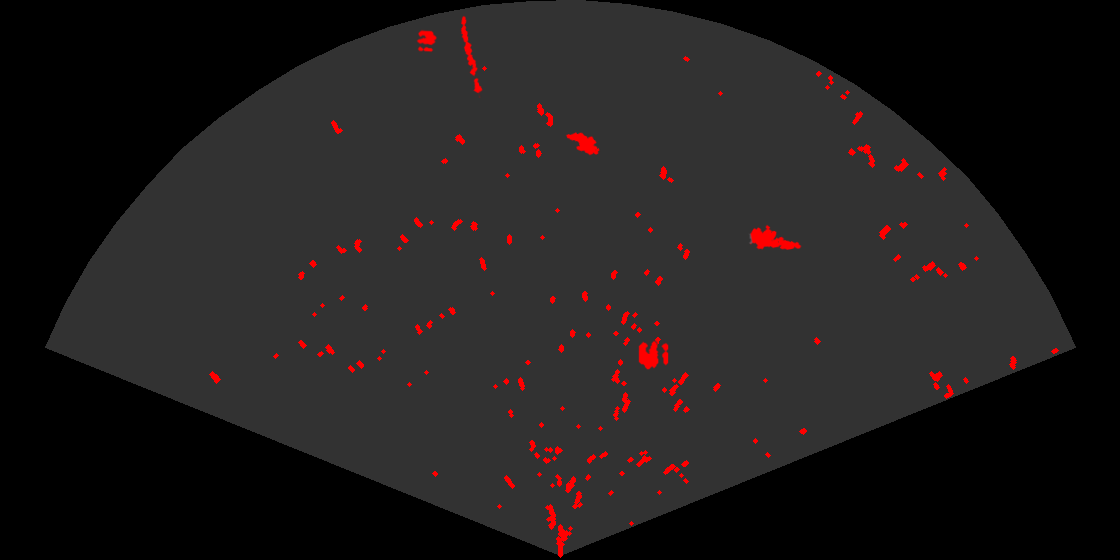AUV: (564, 131, 601, 157)
ball: (637, 339, 670, 371), (415, 28, 438, 54)
chain: (459, 14, 484, 98)
frogman: (748, 223, 802, 251)
